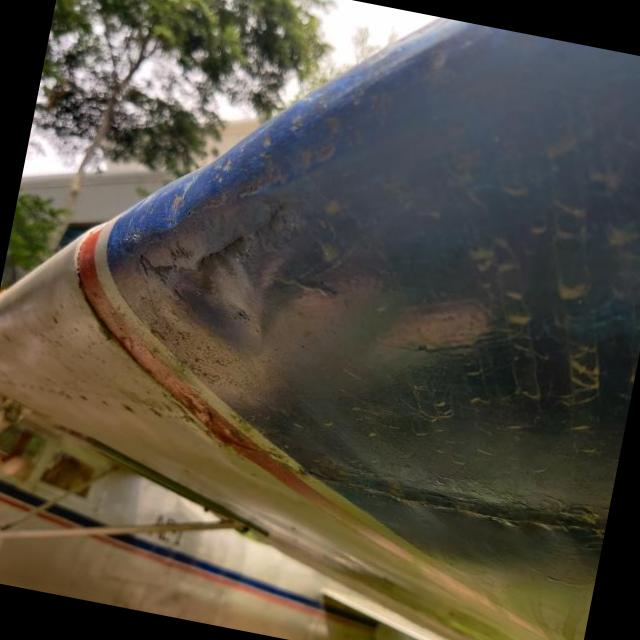Dent: (143, 154, 375, 400)
